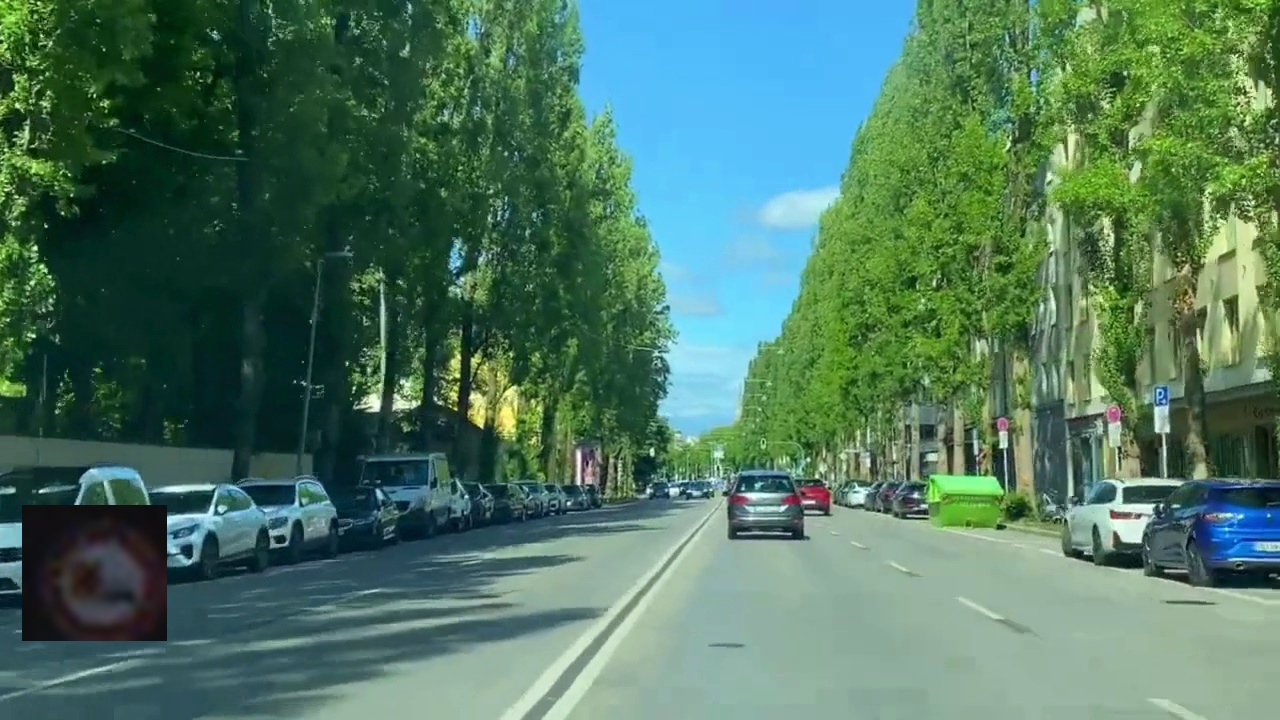No pass >3.5t: (22, 505, 167, 641)
